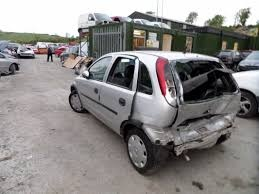Broken-glass: (158, 59, 238, 100)
Dent: (161, 97, 242, 164)
